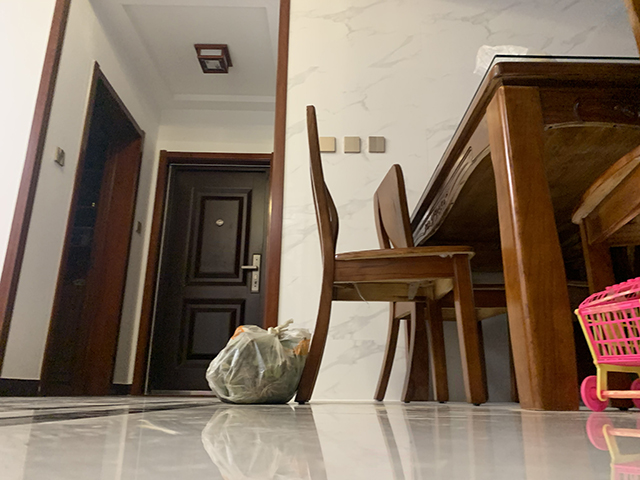stool: (294, 104, 490, 407), (372, 163, 523, 406)
table: (405, 53, 640, 414)
